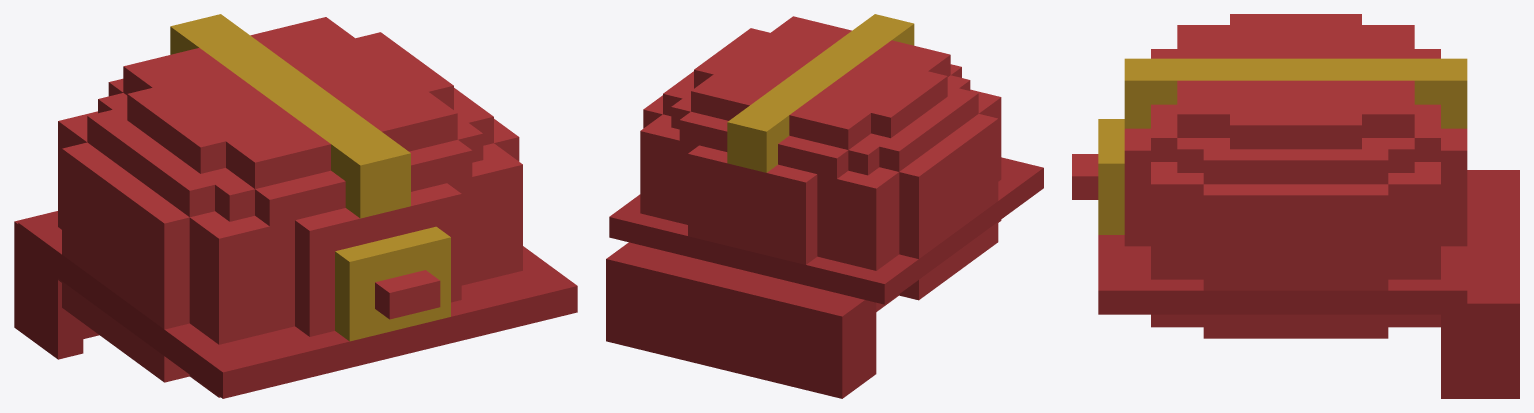
Rendered from gear_feuerwehr_helmet.glb.
3 views of the same model, side by side, from view 1: azimuth 30°, elevation 25°; view 2: azimuth 150°, elevation 25°; view 3: azimuth 270°, elevation 25° (orthographic). The views are drawn at different scales.
Parts seen in each view (by area): view 1: body; view 2: body; view 3: body.
Part boxes in pixels (box(x1,y1,x2,y2)): body: box(14, 14, 577, 398); body: box(606, 14, 1043, 398); body: box(1072, 14, 1519, 398).
Size of the model in its own units: 0.84 by 0.66 by 1.02.
